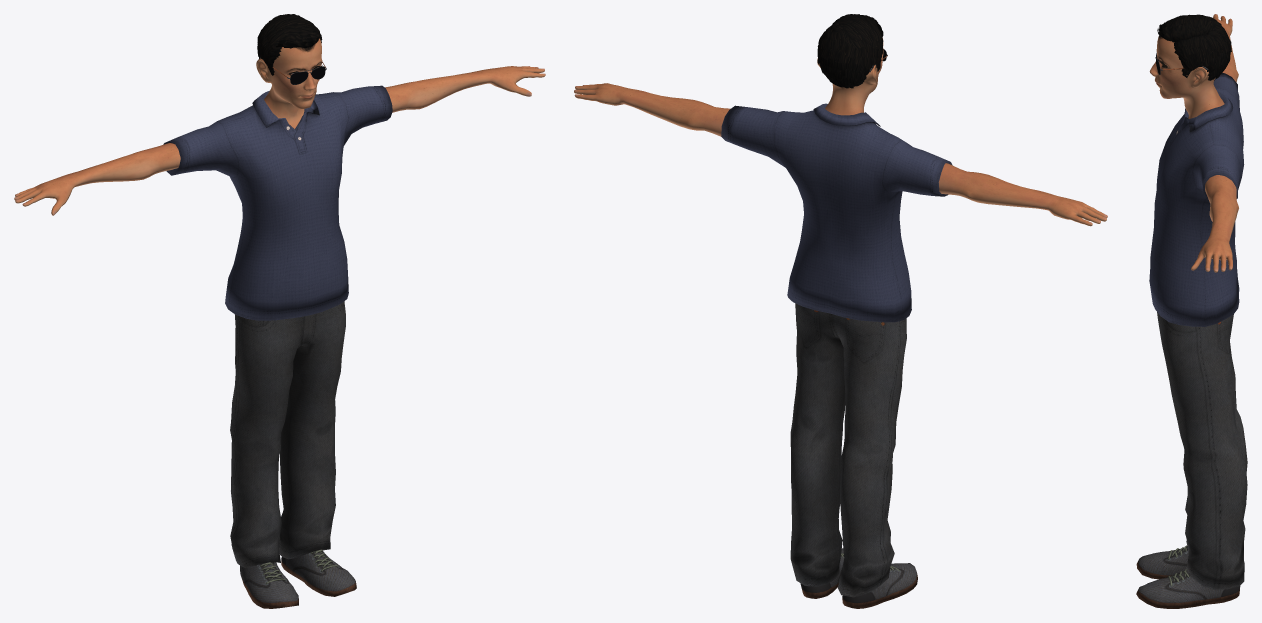
Rendered from Sk_Avatar_1.obj.
3 views of the same model, side by side, from view 1: azimuth 30°, elevation 25°; view 2: azimuth 150°, elevation 25°; view 3: azimuth 270°, elevation 25° (orthographic).
Visible parts, largest first — view 1: Tops, Bottoms, Body, Shoes, Hair; view 2: Bottoms, Tops, Body, Hair, Shoes; view 3: Bottoms, Tops, Body, Shoes, Hair.
Part boxes in pixels (box(x1,y1,x2,y2)): Tops: box(163, 85, 392, 320); Bottoms: box(230, 301, 345, 567); Body: box(14, 38, 545, 215); Shoes: box(240, 549, 356, 608); Hair: box(257, 14, 322, 75); Bottoms: box(790, 303, 906, 597); Tops: box(721, 103, 952, 322); Body: box(574, 38, 1107, 226); Hair: box(817, 14, 883, 88); Shoes: box(800, 548, 917, 608); Bottoms: box(1157, 312, 1247, 590); Tops: box(1149, 73, 1244, 326); Body: box(1149, 14, 1238, 272); Shoes: box(1136, 545, 1240, 608); Hair: box(1157, 14, 1231, 80).
Size of the model in its own units: 166 by 170 by 30.12.
Materials: 6 (6 with a texture image).
